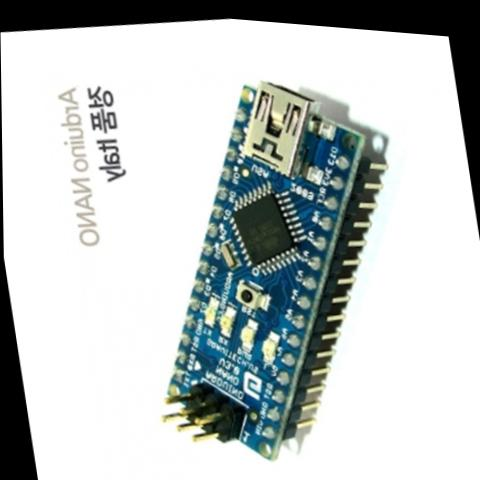Arduino-Nano: (104, 38, 449, 480)
